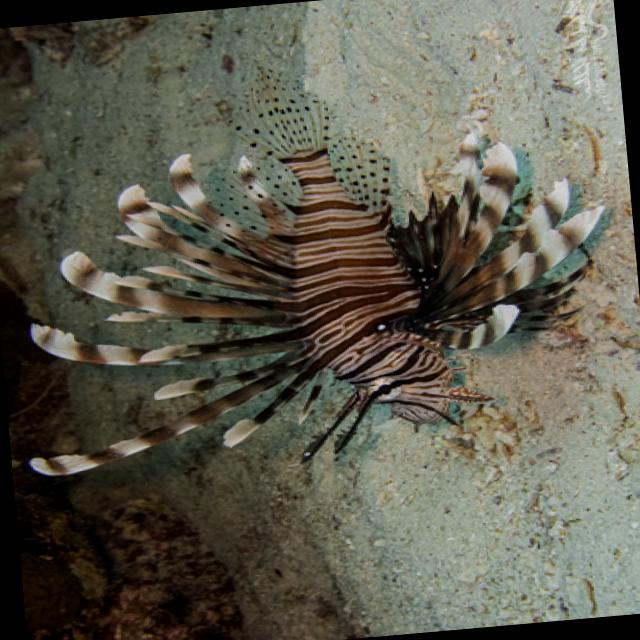Aslan Baligi: (0, 35, 628, 488)
